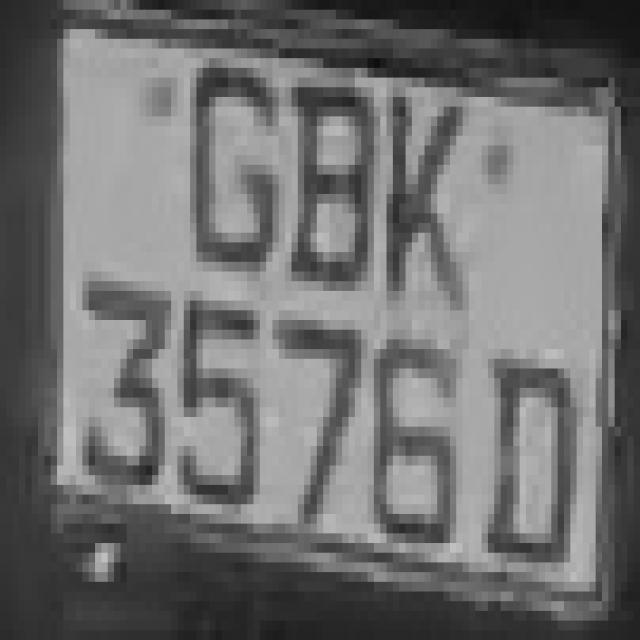3: (70, 242, 164, 543)
5: (178, 242, 272, 524)
6: (361, 281, 463, 601)
7: (260, 232, 355, 552)
B: (292, 29, 380, 330)
D: (482, 301, 589, 601)
G: (171, 0, 285, 301)
K: (374, 29, 475, 330)
